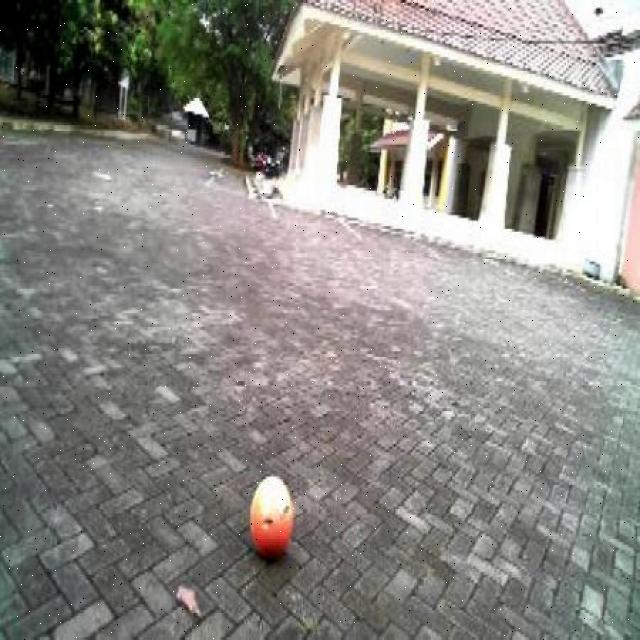buoy: (243, 459, 299, 571)
